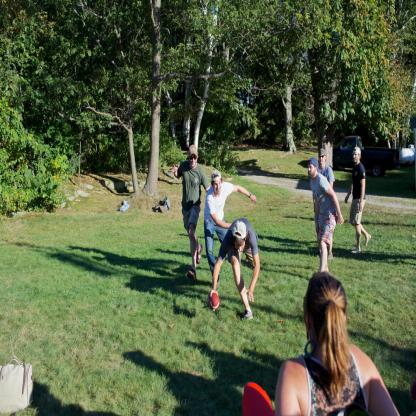Ball: (209, 294, 218, 311)
